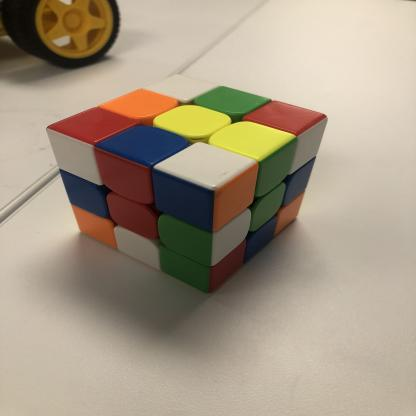UnsolvedCube: (38, 74, 336, 298)
